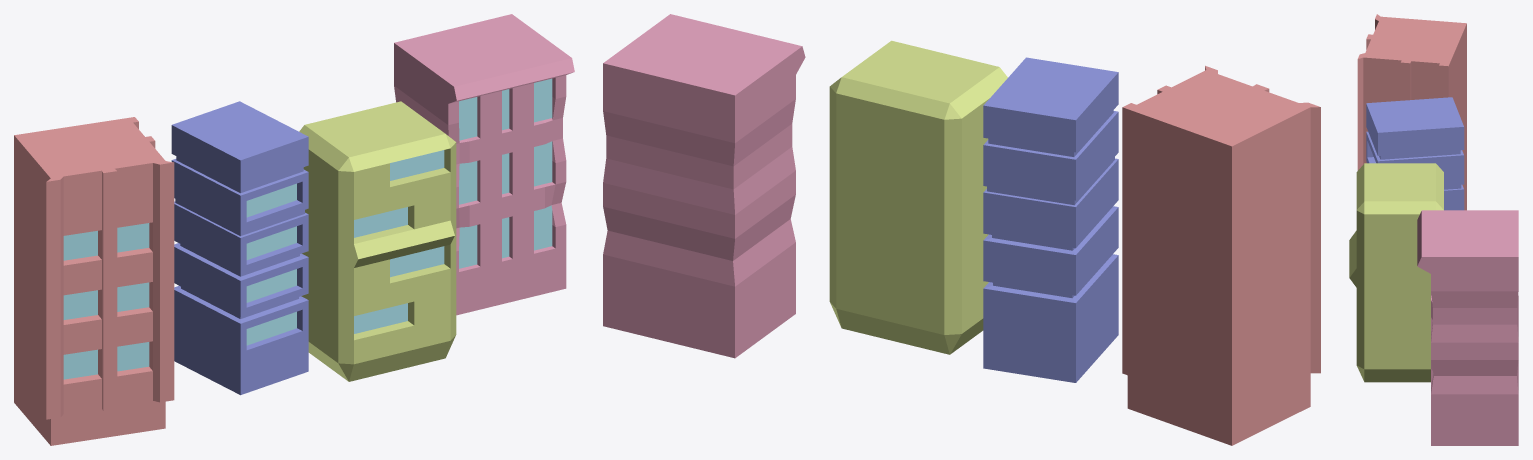
File: Buildings.fbx
3 views of the same model, side by side, from view 1: azimuth 30°, elevation 25°; view 2: azimuth 150°, elevation 25°; view 3: azimuth 270°, elevation 25° (orthographic). The views are drawn at different scales.
Parts seen in each view (by area): view 1: Cube.041, Cube.043, Cube.042, Cube.044, Cube.053; view 2: Cube.041, Cube.044, Cube.043, Cube.042; view 3: Cube.044, Cube.043, Cube.041, Cube.042.
Part boxes in pixels (box(x1,y1,x2,y2)): Cube.041: box(14, 117, 174, 445); Cube.043: box(299, 101, 456, 381); Cube.042: box(171, 101, 308, 395); Cube.044: box(394, 14, 574, 315); Cube.053: box(63, 78, 552, 379); Cube.041: box(1122, 65, 1320, 445); Cube.044: box(603, 14, 805, 358); Cube.043: box(829, 40, 1007, 354); Cube.042: box(983, 57, 1118, 382); Cube.044: box(1417, 210, 1518, 445); Cube.043: box(1349, 163, 1443, 382); Cube.041: box(1357, 14, 1466, 210); Cube.042: box(1366, 97, 1464, 210).
Size of the model in its own units: 8938 by 4129 by 2937.
